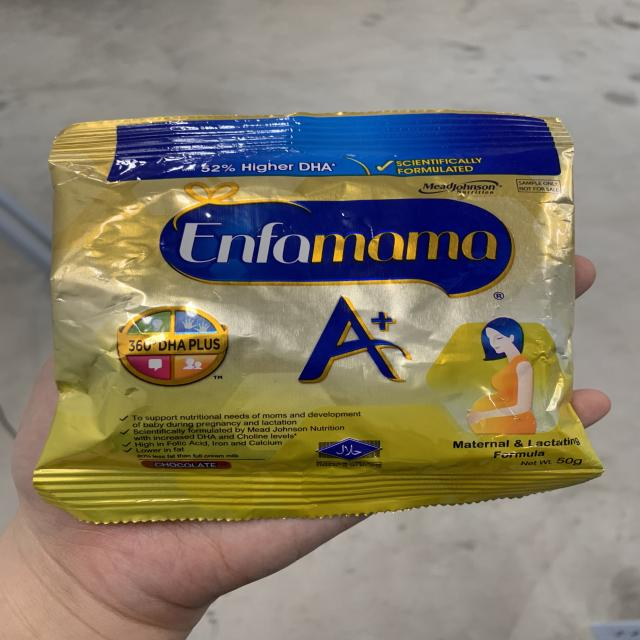object_name: (51, 135, 575, 485)
